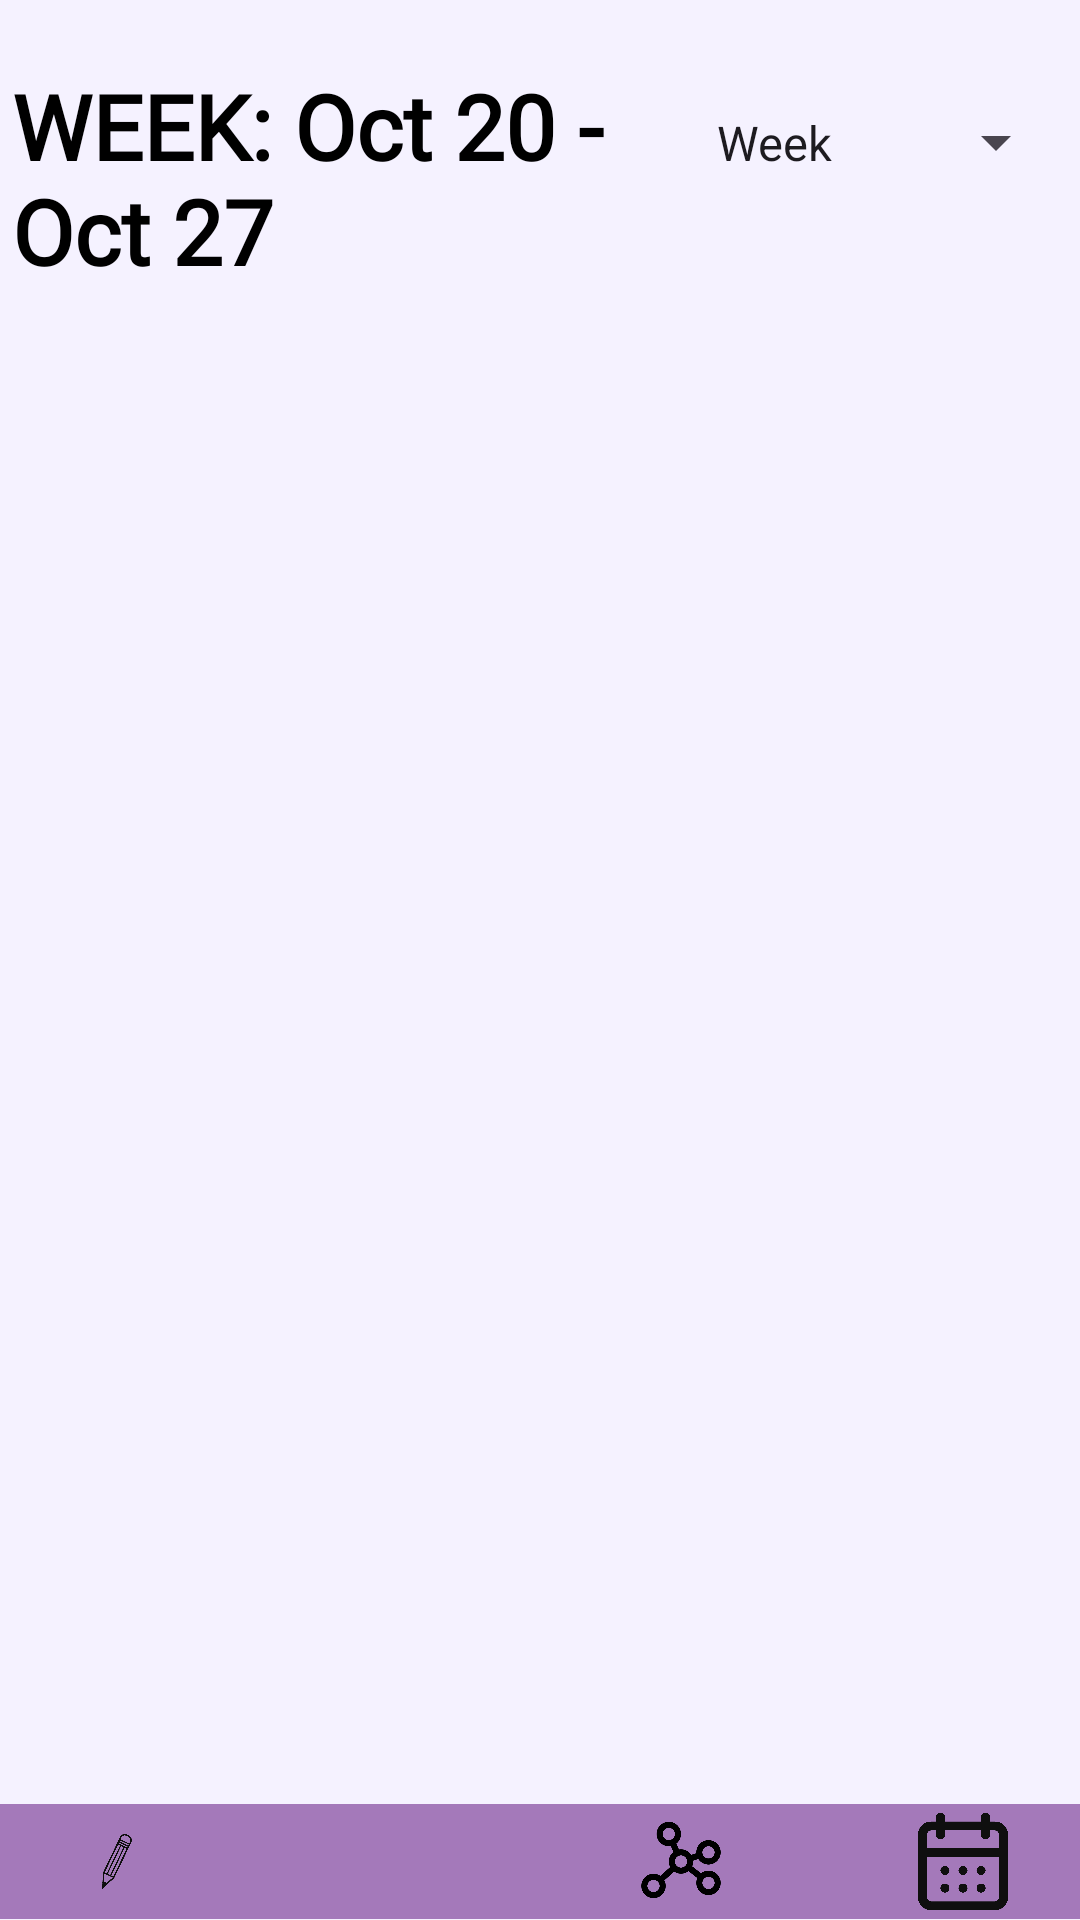

Icons on this 1080x1920 Android screen, each with its box as {"left": x1, "top": y1, "right": x2, "bottom": y2}:
Pencil icon: {"left": 102, "top": 1834, "right": 132, "bottom": 1889}
